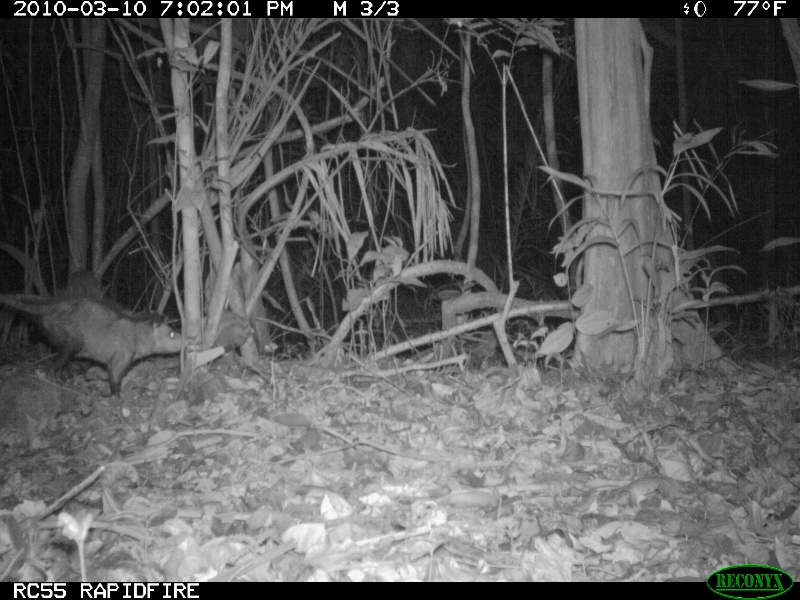opossum: (3, 280, 190, 400)
